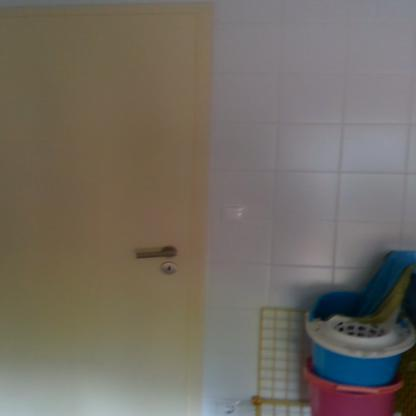door: (0, 15, 200, 416)
lever: (132, 248, 183, 263)
